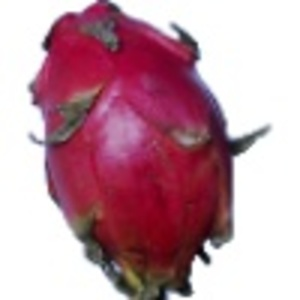pitaia: (29, 1, 272, 300)
